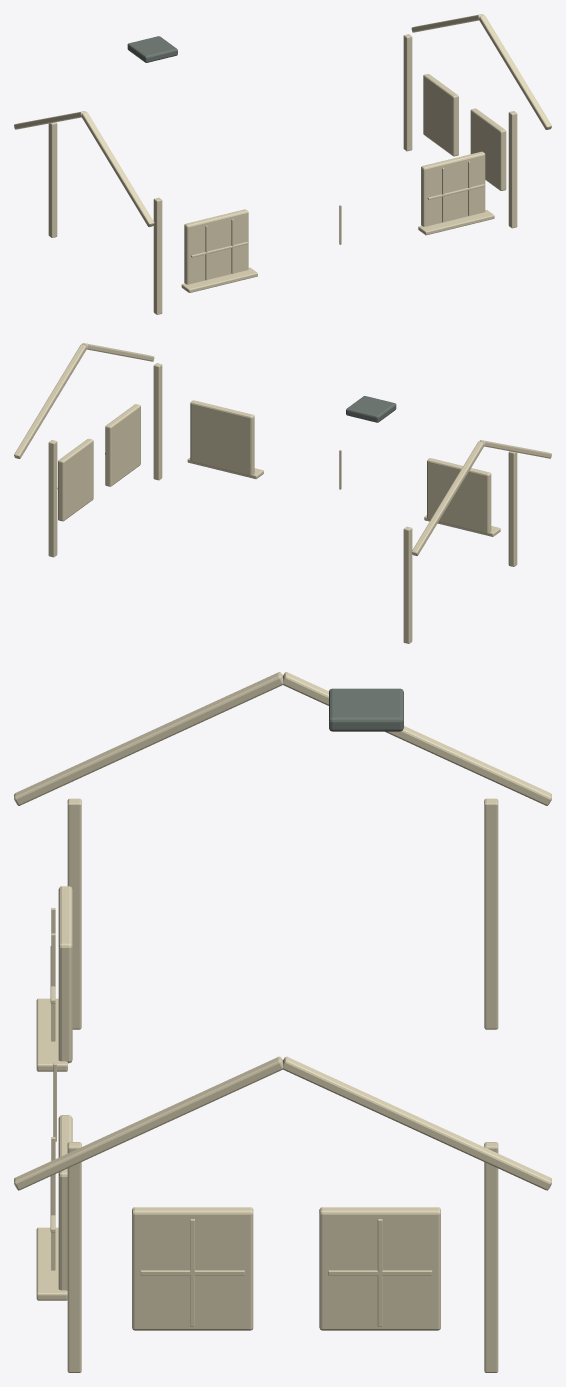
File: SM_StationTrim.fbx
3 renders of one model, top to bottom at view 1: azimuth 30°, elevation 25°; view 2: azimuth 150°, elevation 25°; view 3: azimuth 270°, elevation 25°, orthographic. The views are drawn at different scales.
Visible parts, largest first — view 1: SM_StationTrim; view 2: SM_StationTrim; view 3: SM_StationTrim.
Boxes of the visible parts, <box> form: SM_StationTrim: <box>14,14,551,314</box>; SM_StationTrim: <box>14,343,551,643</box>; SM_StationTrim: <box>14,672,551,1372</box>.
Bounding box in the file's own units: 1329 × 775 × 620.
